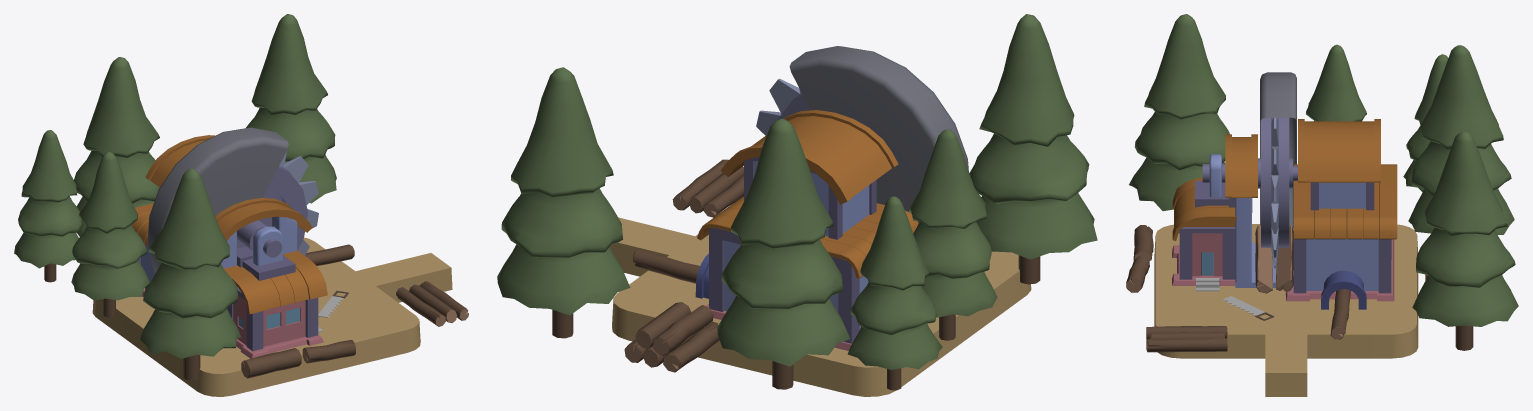
The model's file is lumberjack_resources.fbx.
3 views of the same model, side by side, from view 1: azimuth 30°, elevation 25°; view 2: azimuth 150°, elevation 25°; view 3: azimuth 270°, elevation 25° (orthographic). The views are drawn at different scales.
Parts seen in each view (by area): view 1: lumberjack_resources; view 2: lumberjack_resources; view 3: lumberjack_resources.
Part boxes in pixels (box(x1,y1,x2,y2)): lumberjack_resources: box(14, 14, 468, 396); lumberjack_resources: box(497, 14, 1097, 396); lumberjack_resources: box(1126, 14, 1518, 396).
Size of the model in its own units: 126 by 76.38 by 118.
